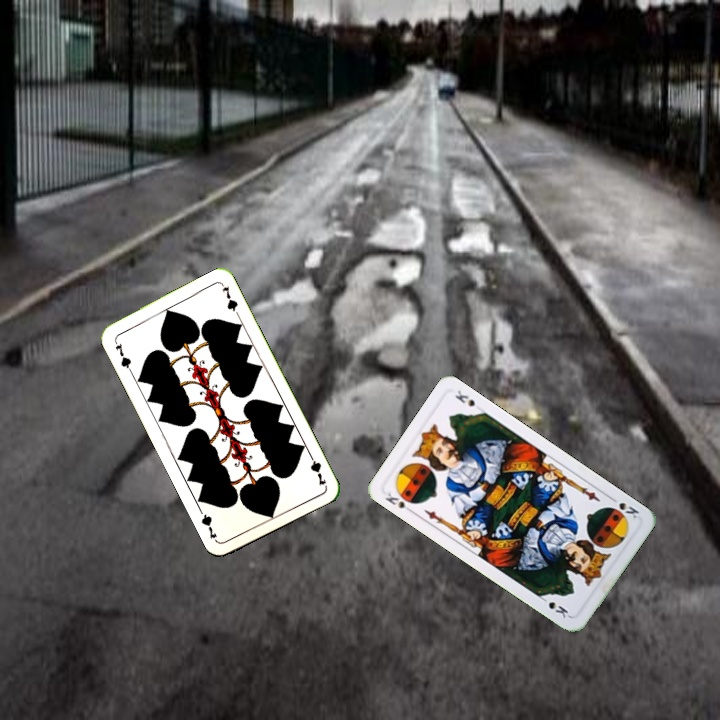G7: (305, 449, 329, 488), (110, 336, 134, 375)
SK: (606, 493, 642, 521), (381, 489, 416, 516)
